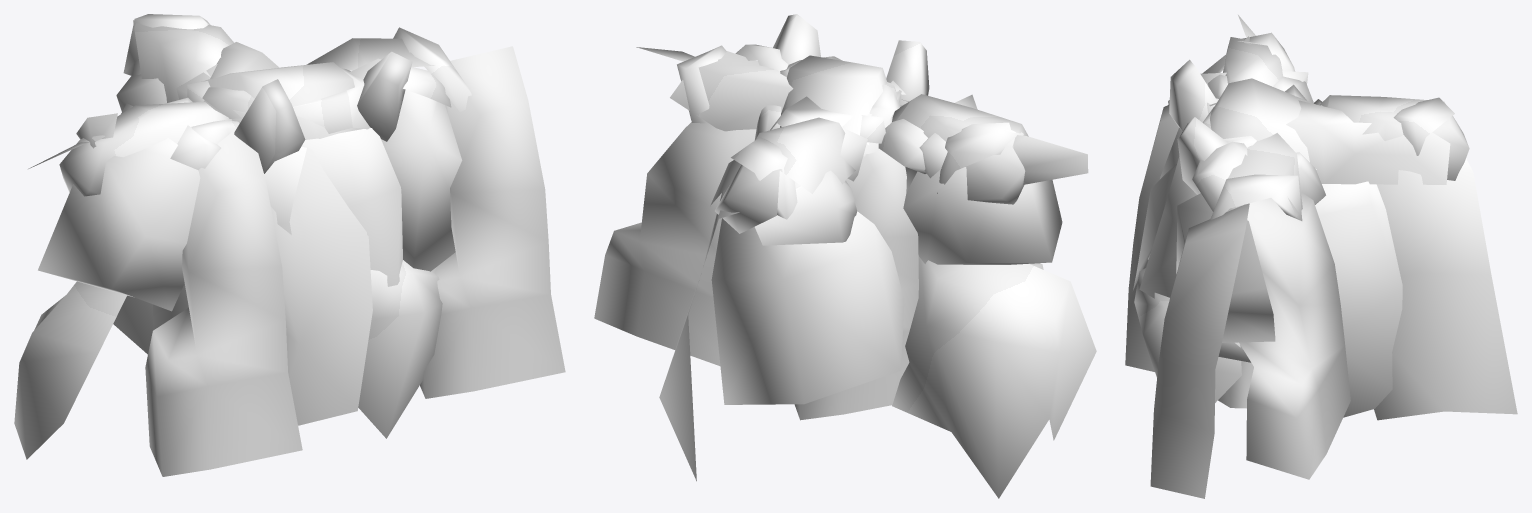
File: narrow_junction_a.glb
3 renders of one model, left to right at view 1: azimuth 30°, elevation 25°; view 2: azimuth 150°, elevation 25°; view 3: azimuth 270°, elevation 25°, orthographic. The views are drawn at different scales.
Parts seen in each view (by area): view 1: TREES; view 2: TREES; view 3: TREES.
Boxes of the visible parts, bbox=[...] form: TREES: bbox=[14, 14, 565, 476]; TREES: bbox=[594, 14, 1096, 498]; TREES: bbox=[1125, 15, 1517, 498].
Size of what is drawn, in the model's own units: 8.82 by 6.87 by 6.45.
Materials: 1 (1 with a texture image).
